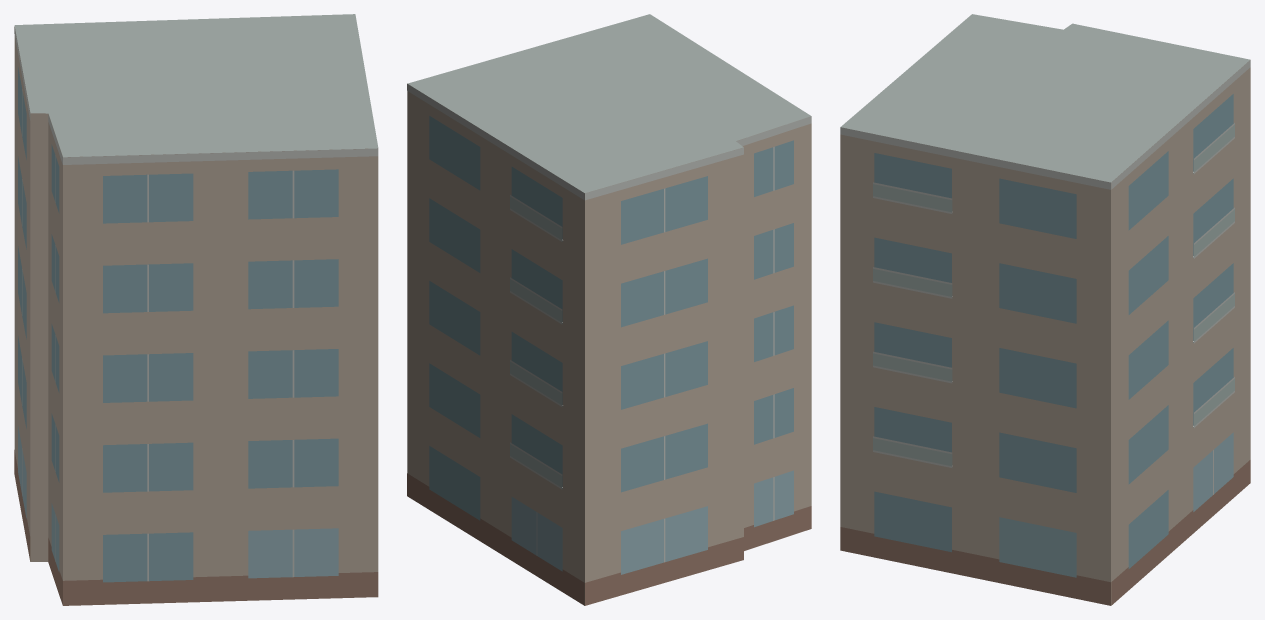
The model's file is survey-upis-32948818.glb.
3 views of the same model, side by side, from view 1: azimuth 30°, elevation 25°; view 2: azimuth 150°, elevation 25°; view 3: azimuth 270°, elevation 25° (orthographic). The views are drawn at different scales.
Parts seen in each view (by area): view 1: survey-upis-32948818.tmp; view 2: survey-upis-32948818.tmp; view 3: survey-upis-32948818.tmp.
Boxes of the visible parts, left/top/right/bottom form: survey-upis-32948818.tmp: left=14, top=14, right=378, bottom=605; survey-upis-32948818.tmp: left=407, top=14, right=811, bottom=605; survey-upis-32948818.tmp: left=840, top=14, right=1250, bottom=605.
Bounding box in the file's own units: 11.96 × 14 × 12.31.
